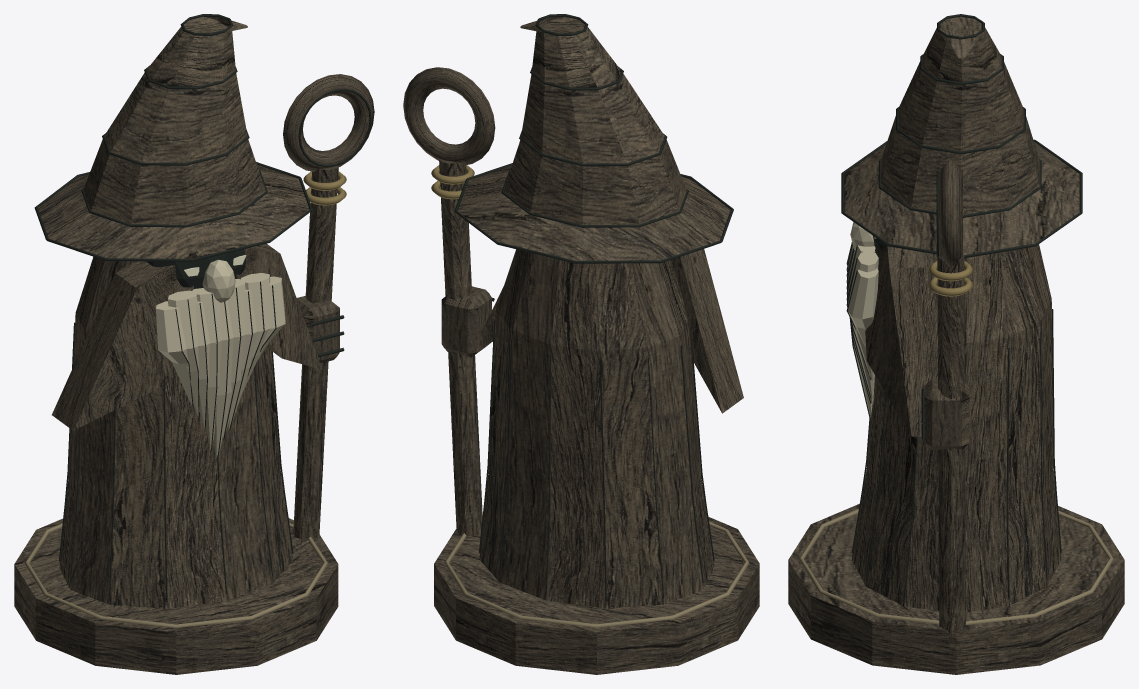
Rendered from MD-04-mage.glb.
The picture shows the model from 3 angles, left to right: view 1: azimuth 30°, elevation 25°; view 2: azimuth 150°, elevation 25°; view 3: azimuth 270°, elevation 25°; orthographic projection. The views are drawn at different scales.
Visible parts, largest first — view 1: Mage_Robe.001, Mage_Bent_Hat.001, Mage_Base.001, Mage_Mantle.002, Mage_Detachable_staff.001, Mage_Staff_eye.001, Mage_Mantle.003, Mage_Base_cut.001, Mage_Carved_beard_03.001, Mage_Carved_beard_00.001, Mage_Carved_beard_04.001, Mage_Gripping_hand.001 (+12 smaller); view 2: Mage_Robe.001, Mage_Bent_Hat.001, Mage_Base.001, Mage_Detachable_staff.001, Mage_Mantle.002, Mage_Staff_eye.001, Mage_Gripping_hand.001, Mage_Base_cut.001, Mage_Hat_Cut_0.001, Mage_Hat_Cut_1.001, Mage_Hat_Cut_2.001; view 3: Mage_Robe.001, Mage_Bent_Hat.001, Mage_Base.001, Mage_Mantle.003, Mage_Detachable_staff.001, Mage_Gripping_hand.001, Mage_Staff_eye.001, Mage_Base_cut.001, Mage_Carved_beard_08.001, Mage_Hat_Cut_0.001, Mage_Carved_beard_07.001, Mage_Hat_Cut_1.001 (+2 smaller).
Part boxes in pixels (x1,y1,x2,y2): Mage_Robe.001: [59, 256, 293, 608]; Mage_Bent_Hat.001: [38, 16, 309, 258]; Mage_Base.001: [14, 518, 338, 674]; Mage_Mantle.002: [52, 261, 193, 430]; Mage_Detachable_staff.001: [293, 165, 338, 539]; Mage_Staff_eye.001: [283, 74, 374, 171]; Mage_Mantle.003: [236, 243, 322, 369]; Mage_Base_cut.001: [24, 523, 328, 628]; Mage_Carved_beard_03.001: [192, 288, 221, 450]; Mage_Carved_beard_00.001: [156, 301, 192, 405]; Mage_Carved_beard_04.001: [213, 300, 233, 457]; Mage_Gripping_hand.001: [296, 296, 339, 363]; Mage_Robe.001: [479, 249, 714, 608]; Mage_Bent_Hat.001: [457, 16, 730, 260]; Mage_Base.001: [434, 517, 759, 674]; Mage_Detachable_staff.001: [439, 159, 482, 536]; Mage_Mantle.002: [671, 249, 743, 413]; Mage_Staff_eye.001: [403, 67, 495, 165]; Mage_Gripping_hand.001: [441, 286, 491, 357]; Mage_Base_cut.001: [444, 521, 749, 627]; Mage_Hat_Cut_0.001: [454, 163, 733, 263]; Mage_Hat_Cut_1.001: [501, 170, 688, 227]; Mage_Hat_Cut_2.001: [519, 131, 667, 166]; Mage_Robe.001: [852, 244, 1060, 612]; Mage_Bent_Hat.001: [844, 16, 1079, 255]; Mage_Base.001: [788, 504, 1124, 674]; Mage_Mantle.003: [865, 243, 937, 436]; Mage_Detachable_staff.001: [937, 252, 966, 637]; Mage_Gripping_hand.001: [924, 379, 969, 449]; Mage_Staff_eye.001: [939, 159, 962, 268]; Mage_Base_cut.001: [798, 509, 1114, 625]; Mage_Carved_beard_08.001: [848, 268, 878, 347]; Mage_Hat_Cut_0.001: [841, 139, 1082, 258]; Mage_Carved_beard_07.001: [848, 252, 878, 380]; Mage_Hat_Cut_1.001: [878, 159, 1041, 217].
Bounding box in the file's own units: 0.1077 × 0.1757 × 0.09.
6 materials, 1 textured.
